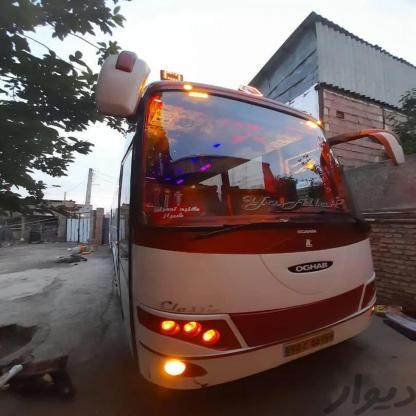Bus: (92, 73, 400, 388)
